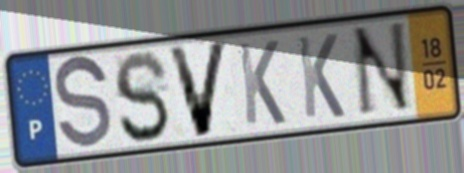K: (294, 31, 348, 122), (235, 38, 289, 128)
N: (348, 18, 416, 122)
S: (52, 51, 115, 156), (111, 48, 174, 146)
V: (164, 37, 233, 141)
